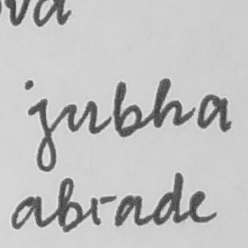a: (194, 89, 233, 134)
b: (109, 78, 144, 139)
h: (150, 74, 185, 130)
j: (27, 96, 59, 175)
u: (63, 94, 101, 136)
